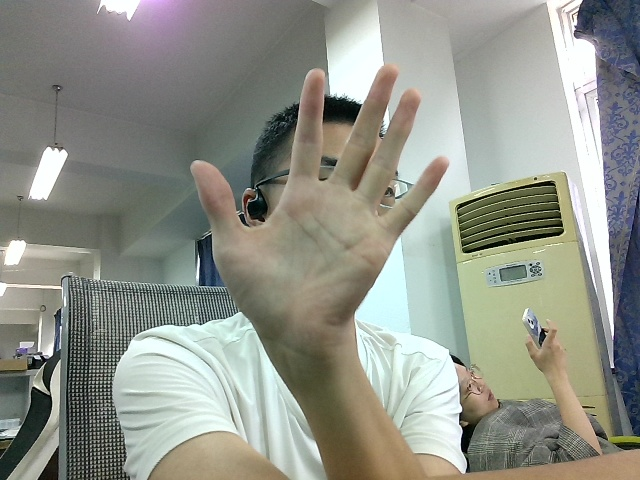paper: (180, 58, 452, 397)
